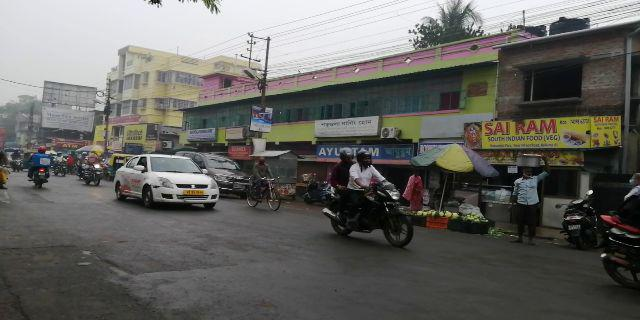Car: (115, 150, 221, 210)
Cycle: (242, 155, 283, 215)
Motorbike: (321, 140, 417, 247)
